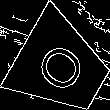O_SE: (31, 36, 93, 98)
